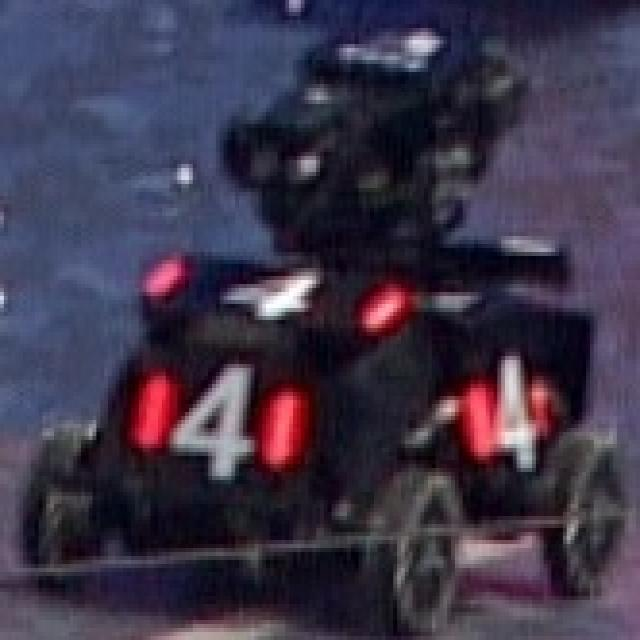R4: (135, 360, 301, 480), (463, 348, 551, 468)
